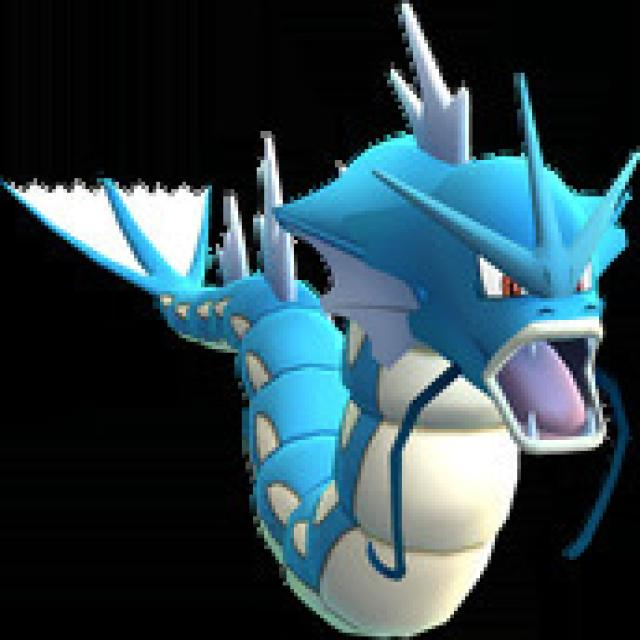Gyarados: (19, 19, 634, 640)
